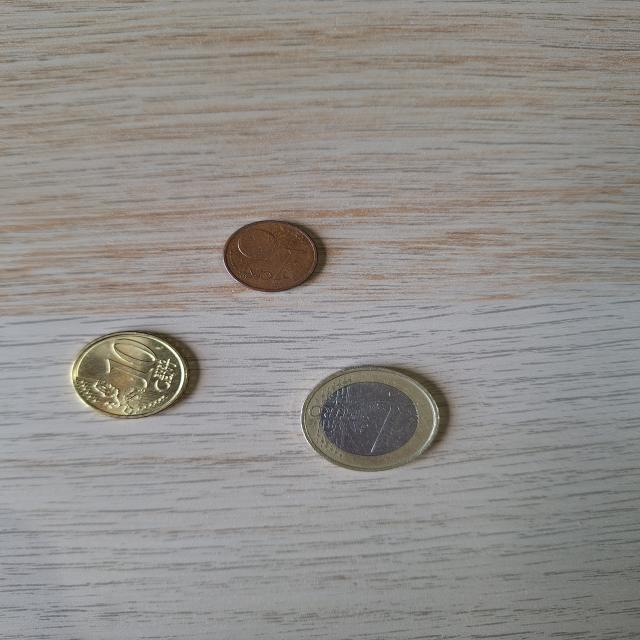10c: (62, 318, 203, 432)
1c: (212, 210, 334, 301)
1e: (292, 354, 455, 482)
